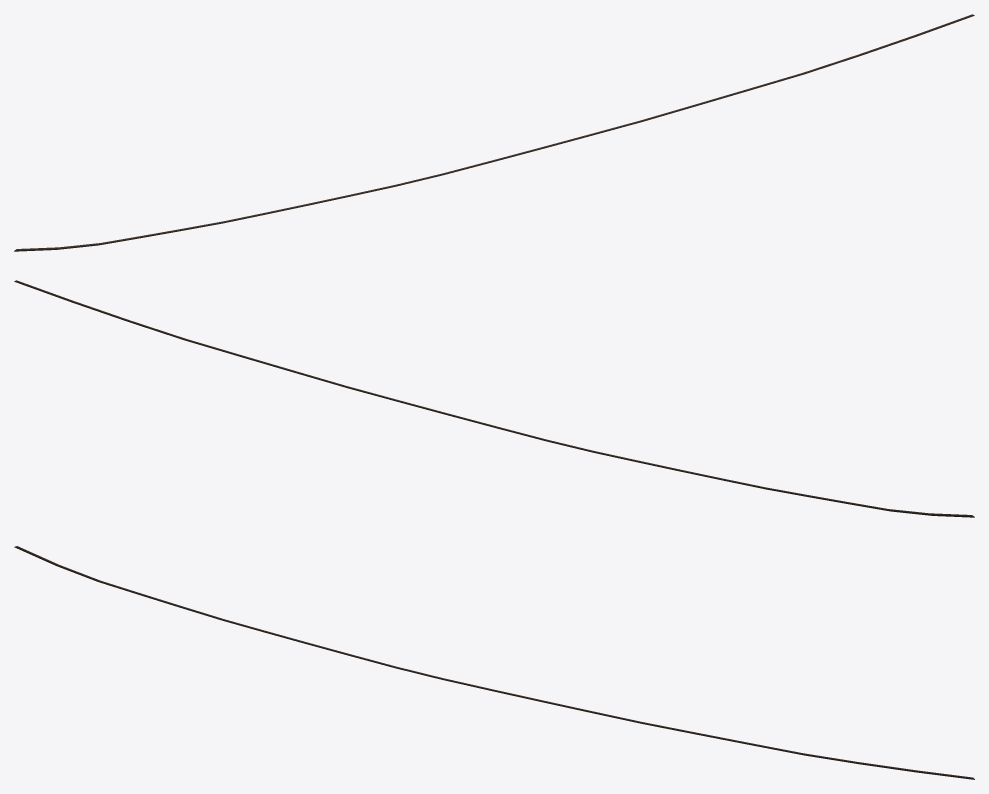
File: P_Cable01.fbx
3 renders of one model, top to bottom at view 1: azimuth 30°, elevation 25°; view 2: azimuth 150°, elevation 25°; view 3: azimuth 330°, elevation 25°, orthographic.
Parts seen in each view (by area): view 1: Plane (10); view 2: Plane (10); view 3: Plane (10).
Part boxes in pixels (x1,y1,x2,y2): Plane (10): (14,14,974,251); Plane (10): (14,280,974,517); Plane (10): (14,546,974,779).
Size of the model in its own units: 2315 by 72.81 by 4.05.
